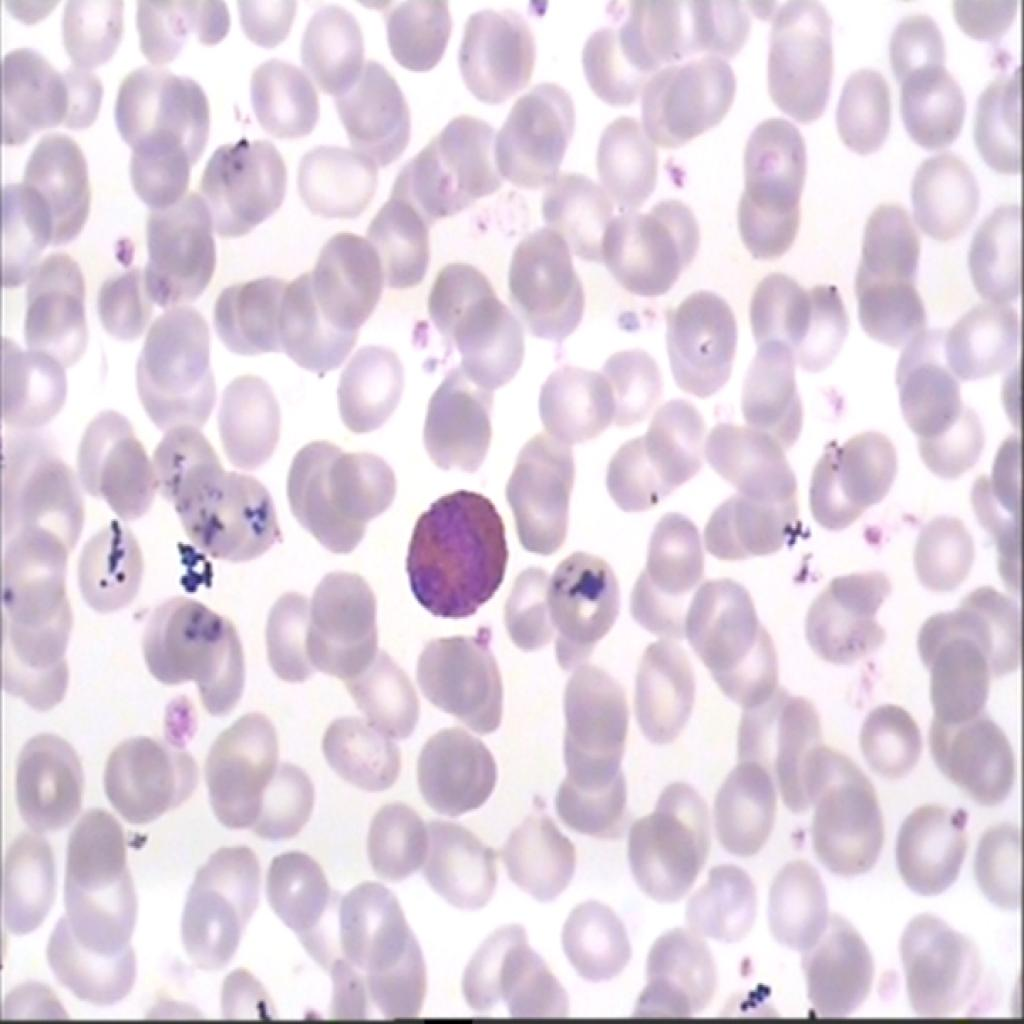Eosinofil: (398, 480, 515, 624)
Platelet: (104, 224, 165, 290), (164, 683, 199, 745), (609, 290, 640, 341), (860, 514, 888, 565), (660, 156, 695, 196), (513, 0, 560, 28), (0, 570, 27, 618), (943, 796, 974, 836), (422, 347, 451, 389), (407, 311, 441, 345), (647, 476, 669, 514), (734, 951, 762, 980), (786, 812, 810, 841)
